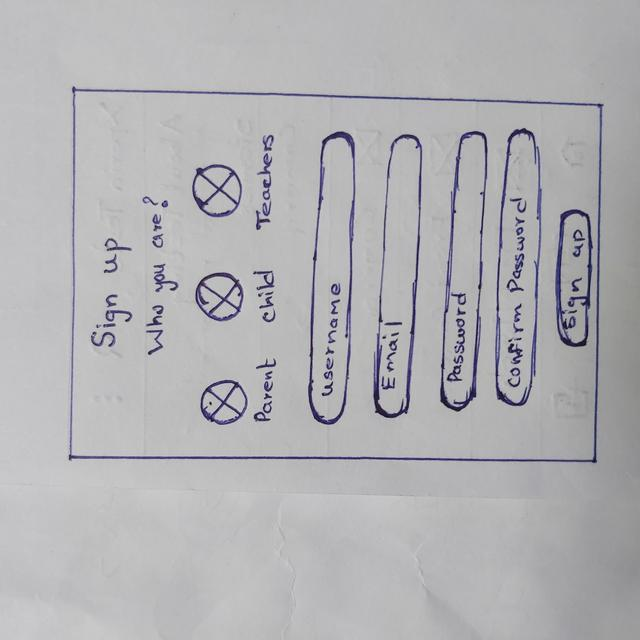Button: (554, 205, 595, 349)
EditText: (373, 131, 422, 418), (438, 131, 488, 412), (309, 132, 357, 424), (496, 129, 546, 407)
Layout: (184, 130, 282, 239), (192, 262, 284, 332), (194, 356, 280, 429)
MainLayout: (69, 84, 600, 461)
RoundedImage: (191, 163, 245, 218), (195, 271, 244, 321), (200, 379, 247, 424)
TextView: (142, 196, 167, 353), (92, 238, 122, 350), (257, 135, 275, 230), (252, 270, 277, 326), (256, 361, 273, 421)
